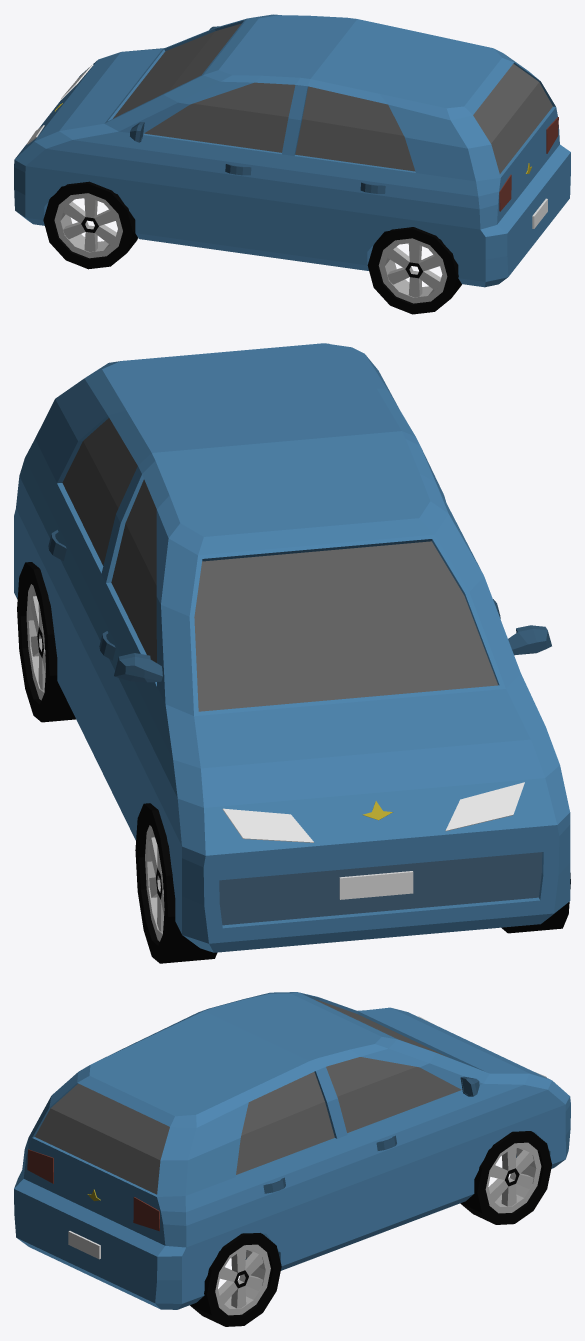
The model's file is Car B Blue.fbx.
The picture shows the model from 3 angles, top to bottom: view 1: azimuth 30°, elevation 25°; view 2: azimuth 150°, elevation 25°; view 3: azimuth 270°, elevation 25°; orthographic projection. The views are drawn at different scales.
Parts seen in each view (by area): view 1: Car B Blue; view 2: Car B Blue; view 3: Car B Blue.
Part boxes in pixels (left/top/right/bottom): Car B Blue: left=14, top=14, right=570, bottom=314; Car B Blue: left=14, top=343, right=570, bottom=963; Car B Blue: left=14, top=992, right=570, bottom=1326.
Size of the model in its own units: 429 by 451 by 190.
